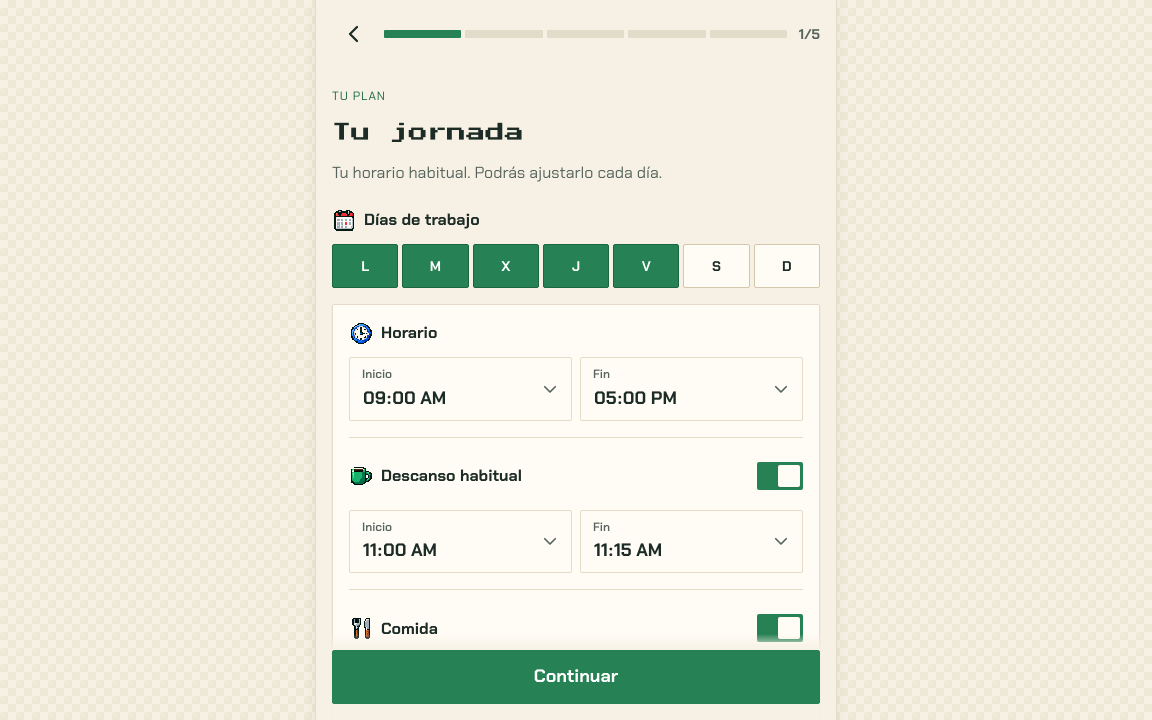
onboarding: workday › does not accept a workday that crosses midnight
Replace the text in the 1st time field labelled "Fin" with "02:00": coordinates (676, 398) [593, 384, 760, 412]
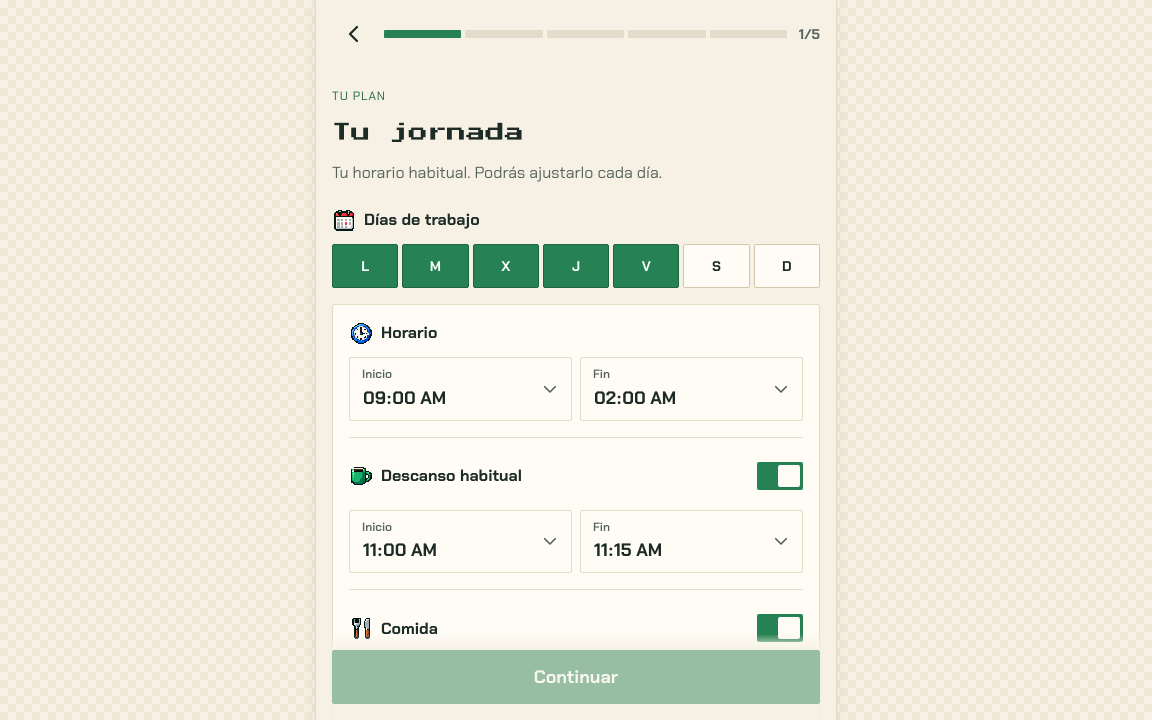
Result: the button "Continuar" is disabled at [332, 650, 820, 704]
